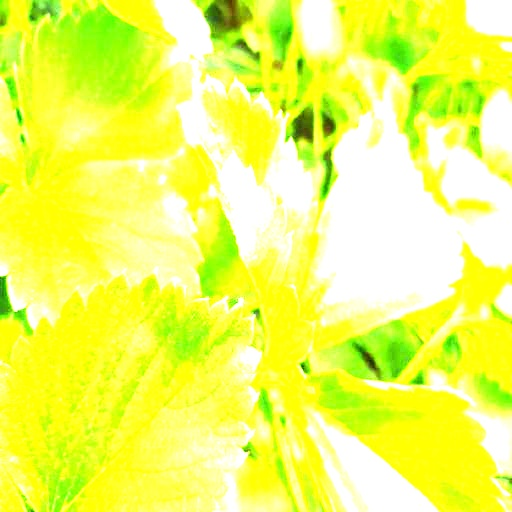Powdery Mildew Leaf: (174, 75, 321, 394)
